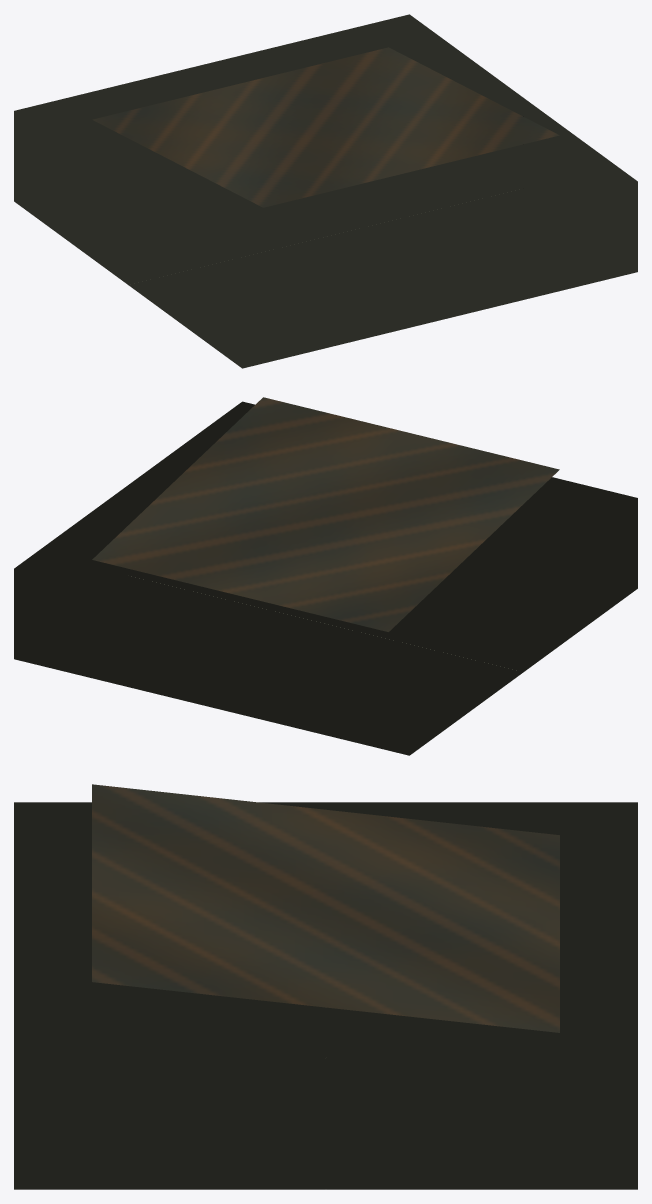
The model's file is trap_t16_env_hazard.glb.
The picture shows the model from 3 angles, top to bottom: view 1: azimuth 30°, elevation 25°; view 2: azimuth 150°, elevation 25°; view 3: azimuth 270°, elevation 25°; orthographic projection. The views are drawn at different scales.
Parts seen in each view (by area): view 1: trap_t16_env_hazard; view 2: trap_t16_env_hazard; view 3: trap_t16_env_hazard.
Part boxes in pixels (box(x1,y1,x2,y2)): trap_t16_env_hazard: box(14, 14, 637, 368); trap_t16_env_hazard: box(14, 397, 637, 755); trap_t16_env_hazard: box(14, 784, 637, 1189).
Size of the model in its own units: 1.6 by 0.494 by 1.6.
1 material, 1 textured.
